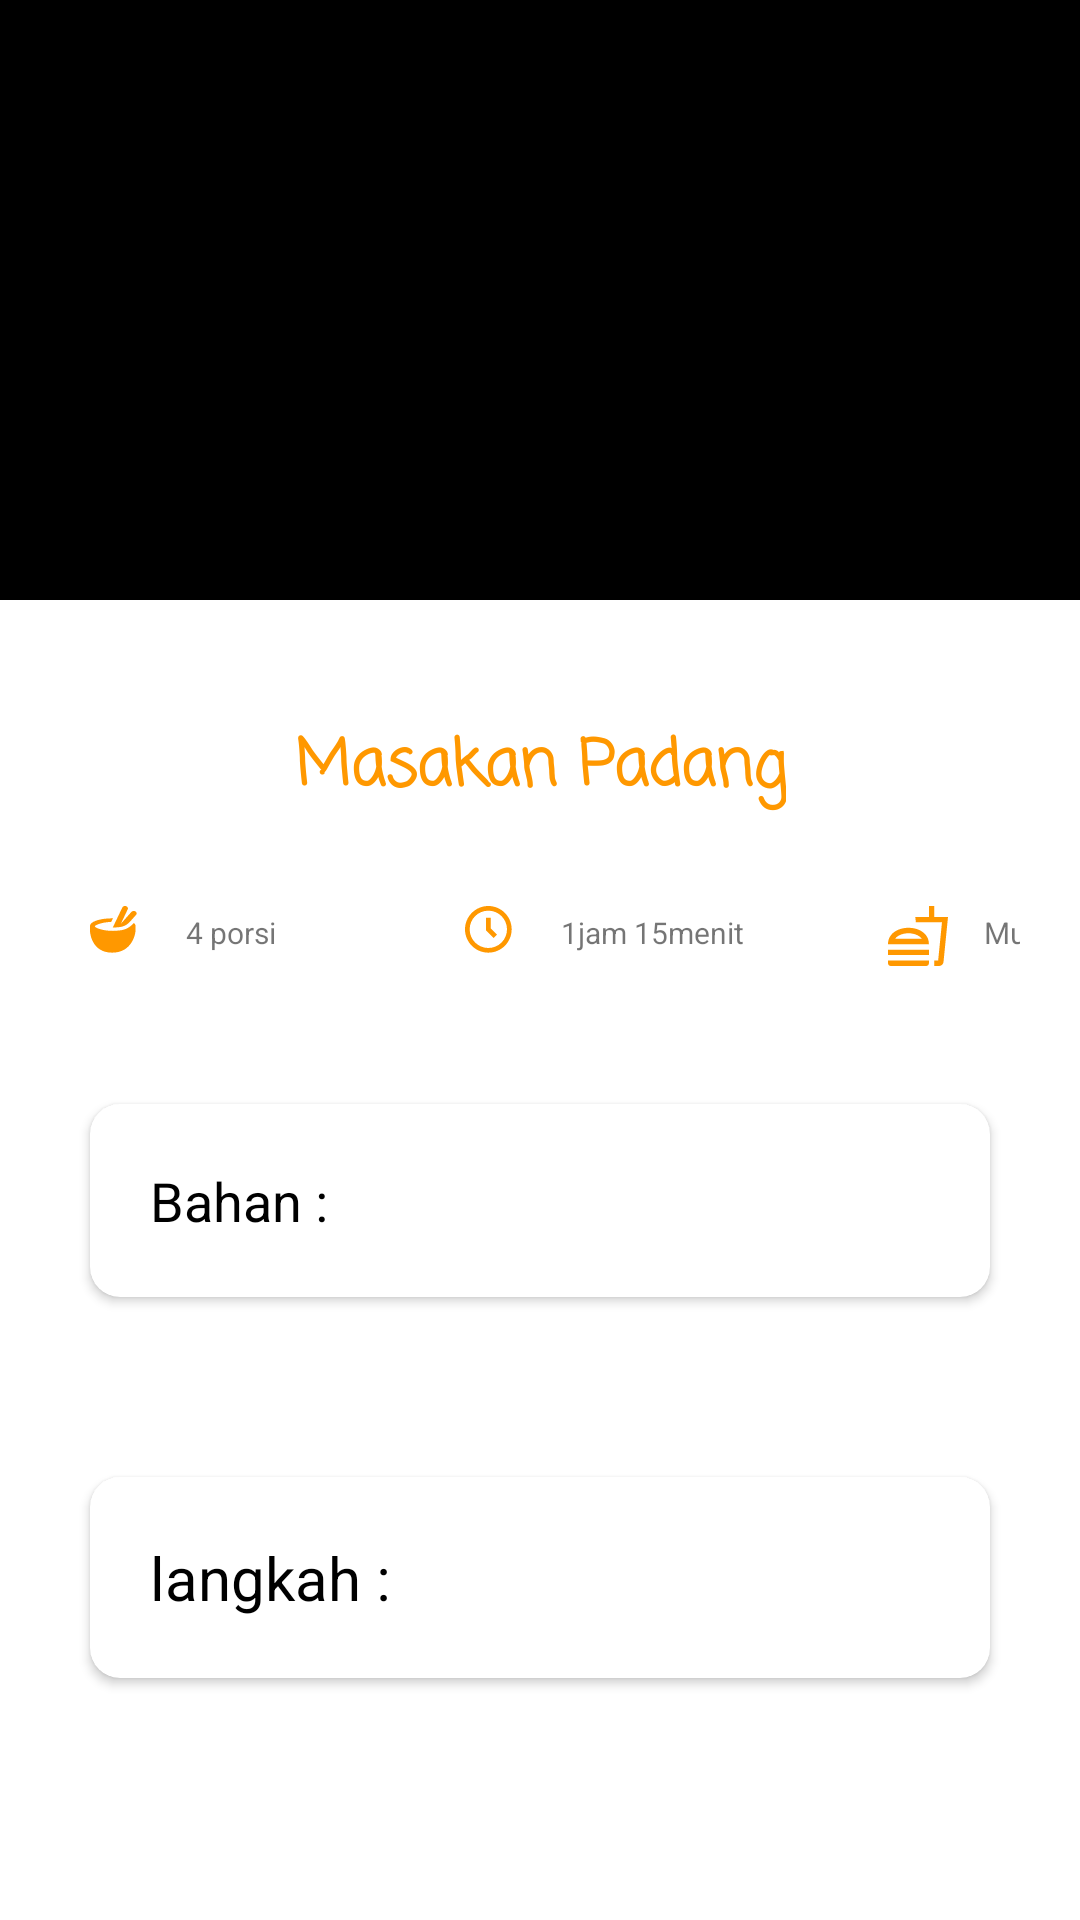

Icon click points for this 1080x1920 phone screenshot, format [x,y]:
durasi: [488,929]
